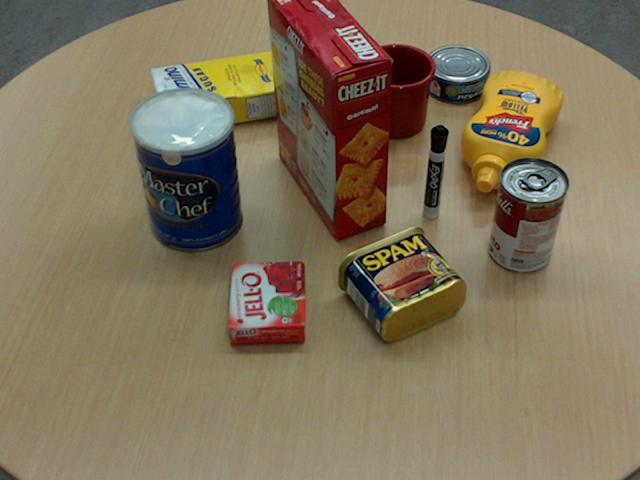cracker_box: (267, 0, 390, 239)
gelatin_box: (228, 261, 305, 343)
large_marker: (423, 125, 448, 218)
master_chef_can: (129, 87, 241, 252)
mug: (358, 43, 436, 137)
mustard_bottle: (460, 71, 561, 192)
potted_meat_can: (336, 224, 465, 340)
sugar_box: (149, 48, 302, 132)
tomato_soup_can: (489, 156, 568, 272)
tuna_fish_can: (422, 44, 489, 102)
